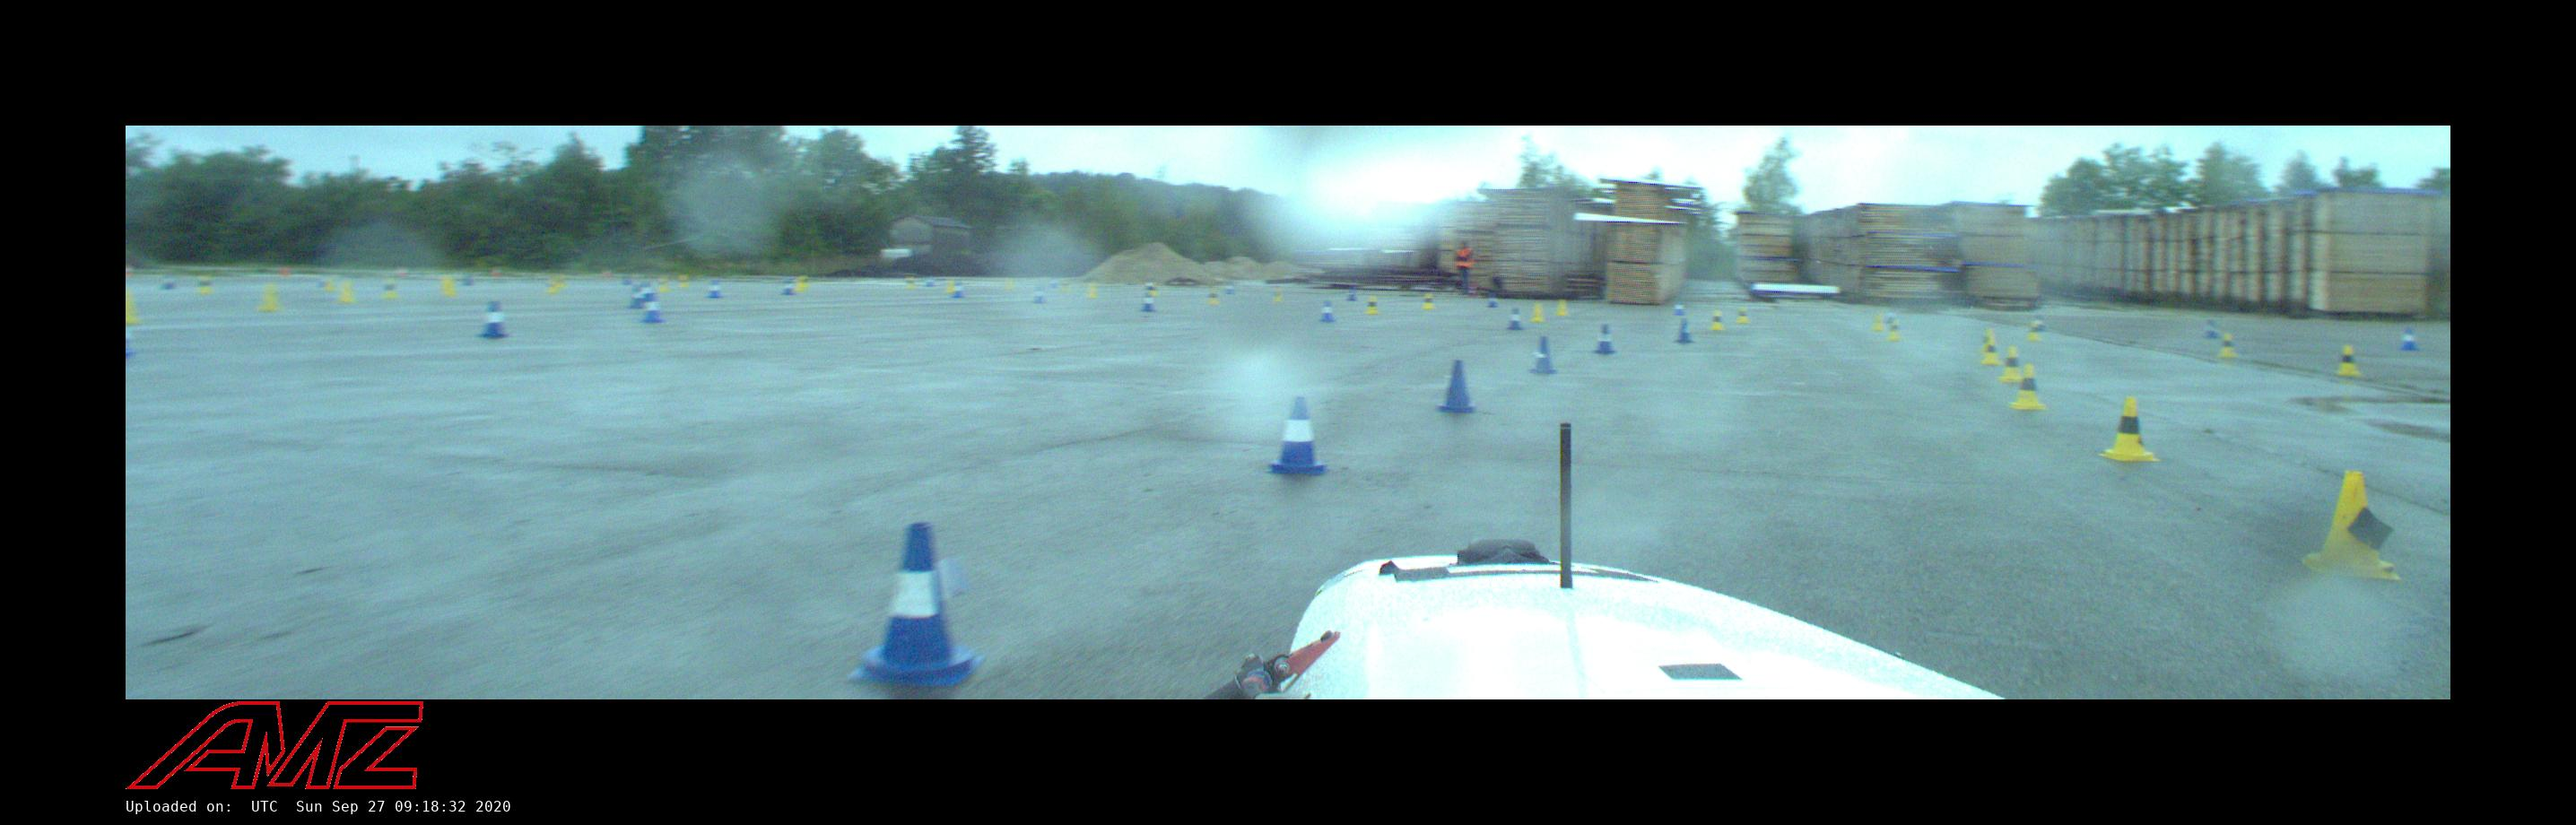blue_cone: (848, 519, 984, 689), (1265, 396, 1331, 475), (1438, 360, 1477, 412), (1528, 335, 1557, 375), (478, 301, 509, 337), (1594, 325, 1617, 353), (1674, 317, 1695, 343), (642, 294, 662, 322), (1506, 307, 1525, 330), (706, 279, 724, 299), (1140, 293, 1158, 312), (2400, 329, 2417, 350), (1319, 301, 1336, 322), (631, 288, 646, 309), (2203, 319, 2218, 339), (782, 279, 797, 296), (1032, 288, 1046, 302), (161, 276, 176, 291), (1487, 293, 1500, 309), (953, 281, 964, 299), (1672, 301, 1686, 316), (642, 281, 652, 299), (1345, 291, 1359, 302), (925, 278, 935, 288)
yellow_cone: (2302, 470, 2400, 580), (2098, 396, 2162, 462), (2008, 365, 2045, 409), (1998, 347, 2022, 381), (1980, 335, 2003, 365), (2336, 345, 2359, 375), (260, 286, 279, 311), (337, 281, 356, 302), (2219, 334, 2236, 357), (1364, 296, 1382, 316), (1709, 311, 1725, 330), (1886, 319, 1901, 340), (197, 276, 214, 294), (1529, 302, 1544, 322), (1419, 293, 1436, 309), (383, 281, 398, 299), (444, 279, 458, 296), (1871, 314, 1884, 330), (2027, 324, 2040, 340), (1556, 299, 1569, 316), (1207, 288, 1219, 306), (1737, 307, 1750, 322), (1145, 283, 1157, 296), (677, 276, 690, 288), (657, 278, 669, 291), (1981, 330, 1988, 352), (549, 279, 559, 293), (1088, 284, 1097, 297), (905, 278, 917, 288), (798, 276, 808, 288), (946, 279, 955, 293), (555, 276, 563, 288)
